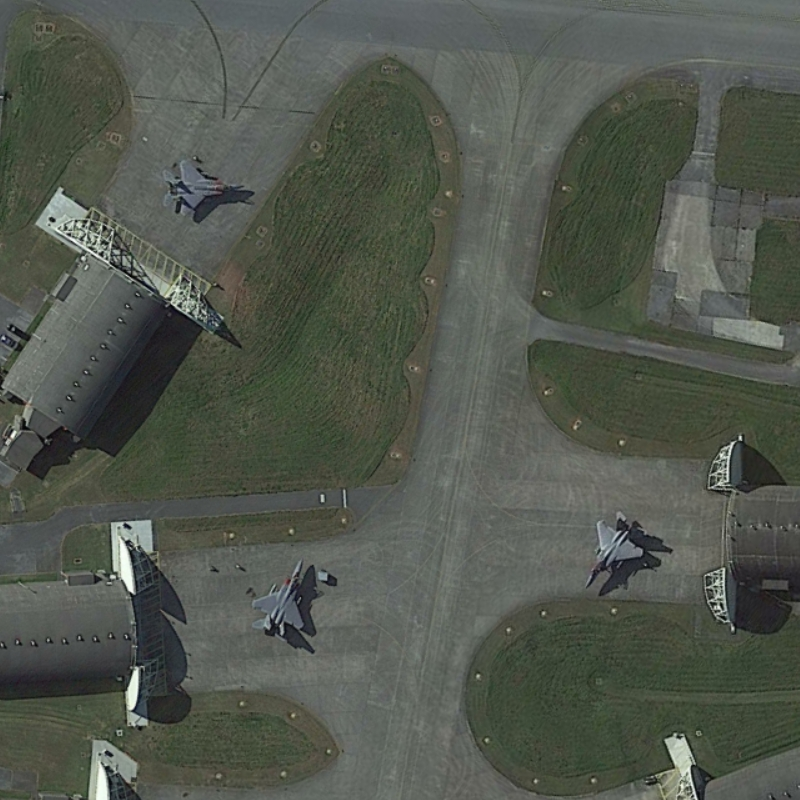A13: (154, 146, 254, 228), (243, 553, 316, 643), (579, 505, 651, 593)
